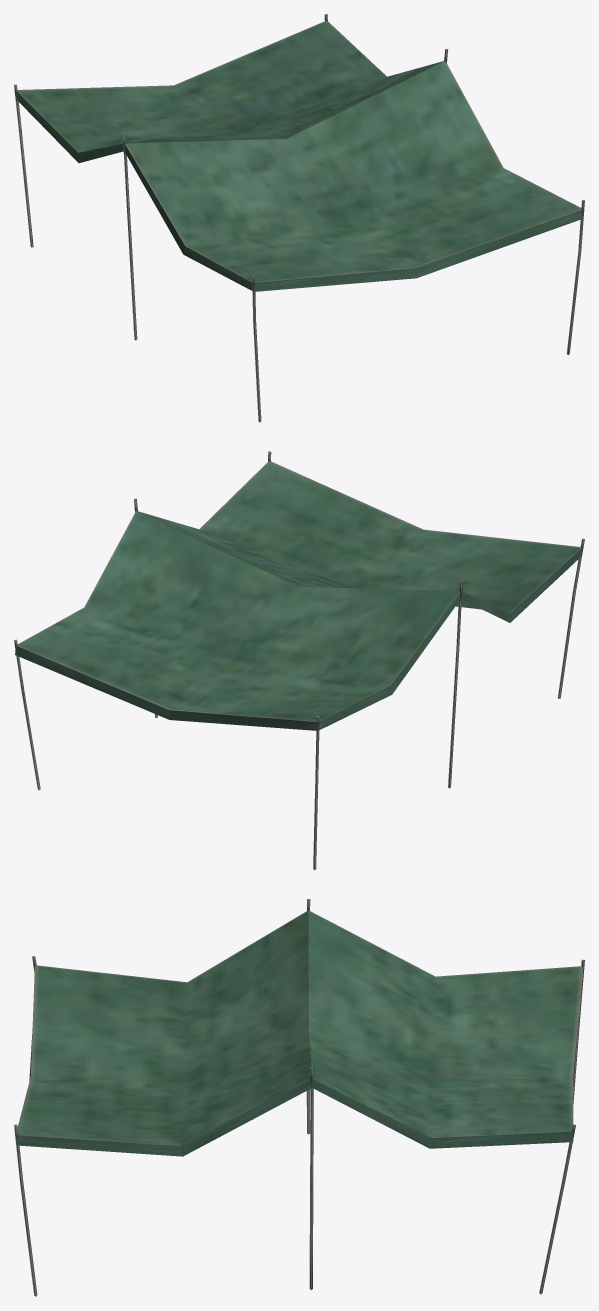
Rendered from poi_nboo_tent_med_l2.fbx.
The picture shows the model from 3 angles, top to bottom: view 1: azimuth 30°, elevation 25°; view 2: azimuth 150°, elevation 25°; view 3: azimuth 270°, elevation 25°; orthographic projection. The views are drawn at different scales.
Visible parts, largest first — view 1: mesh_node; view 2: mesh_node; view 3: mesh_node.
Boxes of the visible parts, x1,y1,x2,y2 form: mesh_node: (14,14,584,422); mesh_node: (14,451,584,870); mesh_node: (14,899,584,1296).
Bounding box in the file's own units: 6.53 × 4.07 × 9.03.
